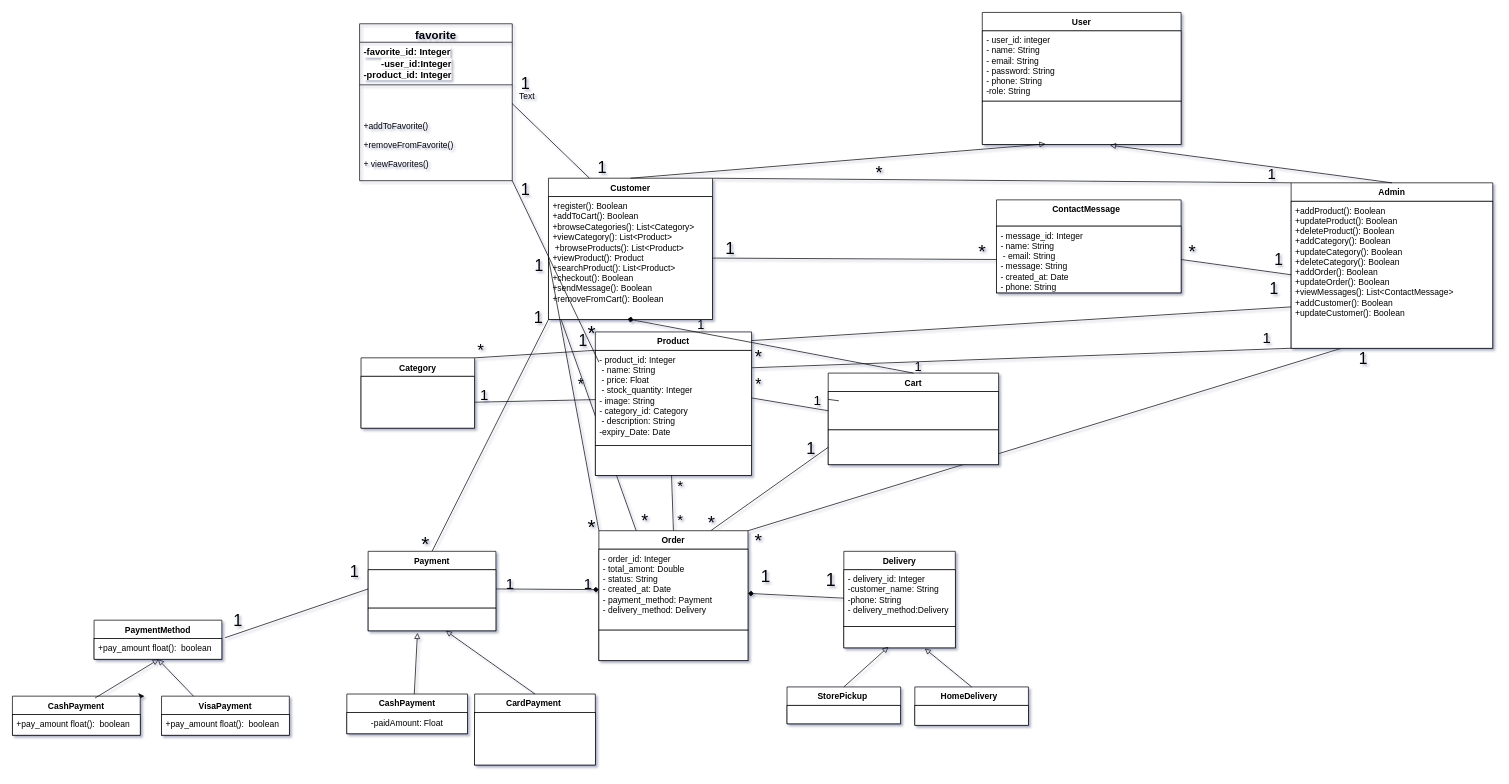
Image size: 1509x784. Some labels were removed from this diagram. Here are the shapes that lost their labels. From the top down, the centre of each, then its label:
At point (1081, 122): "+ login(): Boolean + logout(): void +cancelOrder(): Boolean".
At point (417, 402): "- category_id: Integer - name: String -image: String".
At point (913, 410): "- cart_id: Integer".
At point (673, 460): "+ getPrice(): Float".
At point (913, 447): "+ calculateTotal(): Float".
At point (431, 588): "- payment_id: Integer - amount: float - paymentDate: Date".
At point (431, 619): "+ processPayment(): Boolean".
At point (899, 637): "+ deliverOrder(): void".
At point (673, 645): "+ updateStatus(): void + calculateTotal(): Float".
At point (843, 714): "- pickup_date: Date".
At point (971, 715): "- address: String".
At point (534, 738): "- cardNumber: String - expiryDate: String - cvv: String - Name: String".
